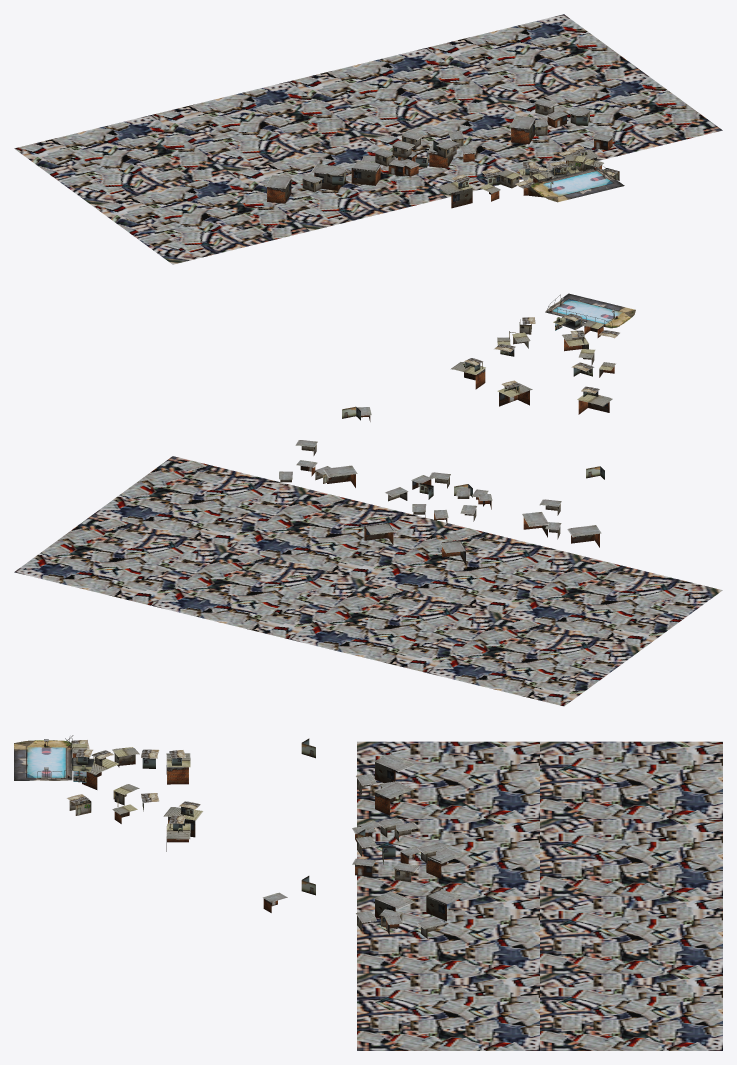
File: court_rio_mesh.fbx
3 views of the same model, one above another, from view 1: azimuth 30°, elevation 25°; view 2: azimuth 150°, elevation 25°; view 3: azimuth 270°, elevation 25° (orthographic). The views are drawn at different scales.
Parts seen in each view (by area): view 1: court_rio_mesh; view 2: court_rio_mesh; view 3: court_rio_mesh.
Boxes of the visible parts, x1,y1,x2,y2 form: court_rio_mesh: (14, 14, 722, 264); court_rio_mesh: (14, 293, 722, 706); court_rio_mesh: (14, 735, 722, 1050).
Bounding box in the file's own units: 937 × 199 × 908.
